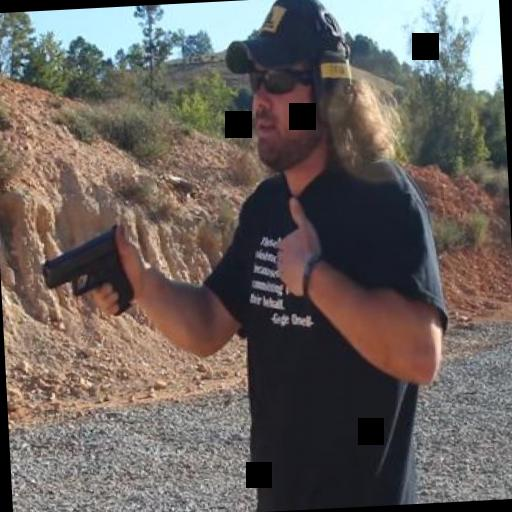Handgun: (35, 222, 136, 318)
